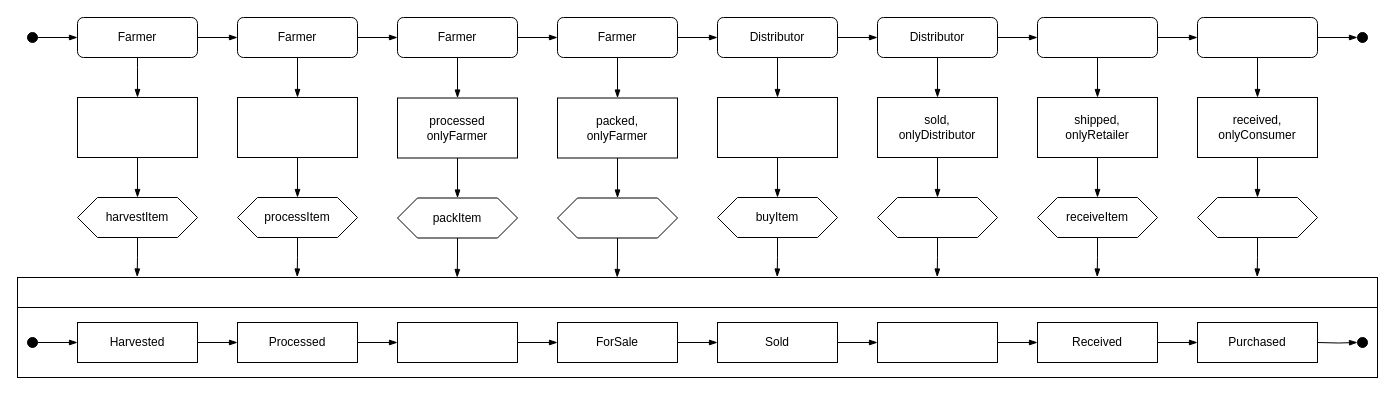
The diagram is 1395 pixels wide and 395 high, and some of its shapes have lost their labels. Here are the shapes that lost their labels. From the top down, the box of each, then its label:
(1036, 16, 1158, 58): Retailer
(1196, 16, 1318, 58): Consumer
(76, 96, 198, 158): onlyFarmer
(236, 96, 358, 158): harvested, onlyFarmer
(716, 96, 838, 158): forSale, onlyDistributor, paidEnough, checkValue
(556, 197, 678, 238): sellItem
(876, 196, 998, 238): shipItem
(1196, 196, 1318, 238): purchaseItem
(16, 276, 1378, 308): Coffee State
(396, 322, 518, 362): Packed
(876, 322, 998, 362): Shipped
